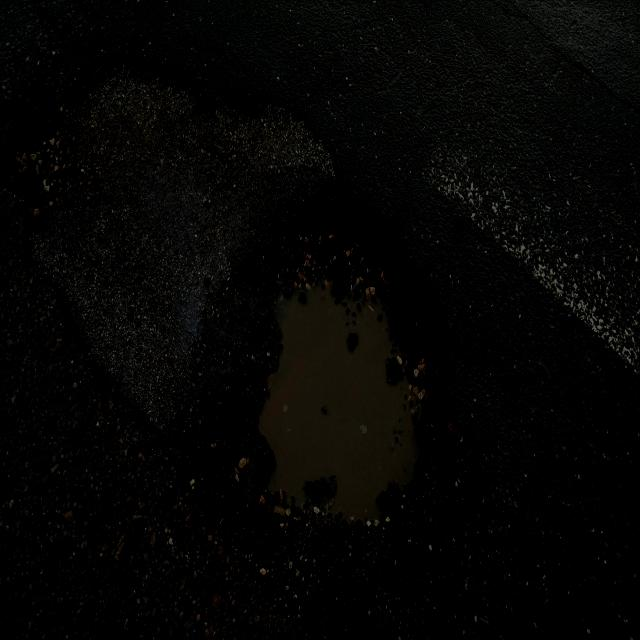Pothole: (25, 46, 470, 545)
